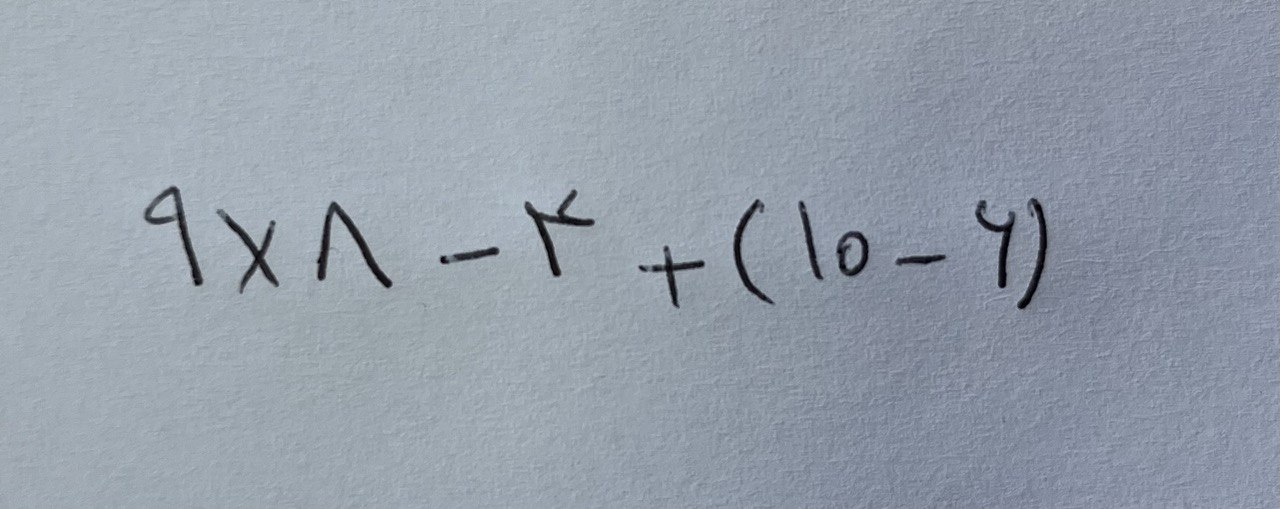character: (314, 201, 394, 290), (523, 186, 596, 277), (143, 185, 206, 288), (215, 206, 281, 297), (732, 197, 779, 309), (637, 246, 705, 309), (1017, 197, 1054, 312), (974, 197, 1017, 290), (796, 199, 826, 283), (834, 229, 872, 279), (437, 246, 502, 268), (892, 251, 949, 268)
